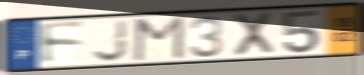3: (189, 15, 224, 59)
5: (282, 9, 322, 55)
F: (37, 21, 88, 67)
J: (90, 18, 130, 63)
M: (131, 14, 187, 63)
X: (231, 10, 277, 58)
